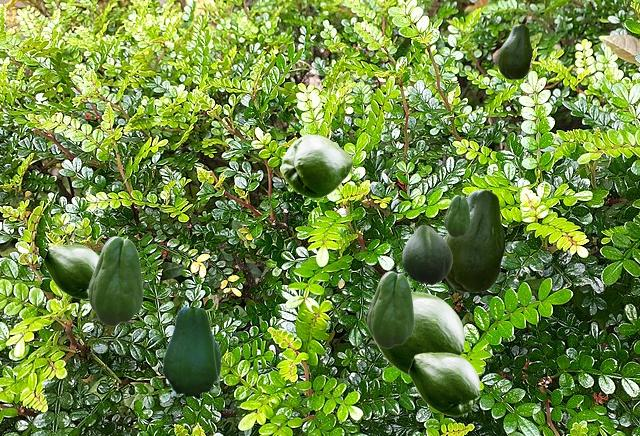sayote: (364, 291, 464, 376), (443, 189, 504, 291), (162, 307, 222, 400), (88, 236, 142, 325), (408, 352, 479, 415), (281, 134, 352, 197), (367, 271, 413, 347), (43, 244, 98, 298), (402, 225, 451, 284), (497, 24, 531, 78), (444, 195, 469, 236)
